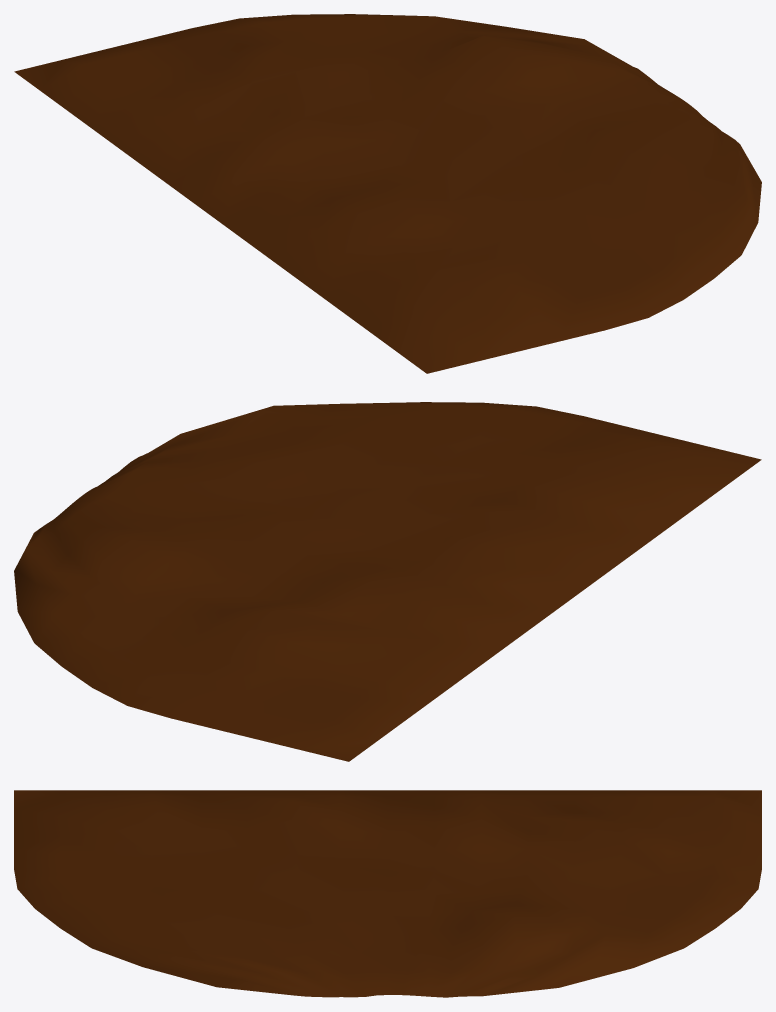
File: Dirt.fbx
The picture shows the model from 3 angles, top to bottom: view 1: azimuth 30°, elevation 25°; view 2: azimuth 150°, elevation 25°; view 3: azimuth 270°, elevation 25°; orthographic projection. The views are drawn at different scales.
Visible parts, largest first — view 1: MudPlane; view 2: MudPlane; view 3: MudPlane.
Boxes of the visible parts, box(x1,y1,x2,y2) form: MudPlane: box(14, 14, 761, 373); MudPlane: box(14, 402, 761, 761); MudPlane: box(14, 790, 761, 997).
Size of the model in its own units: 531 by 38.29 by 808.
